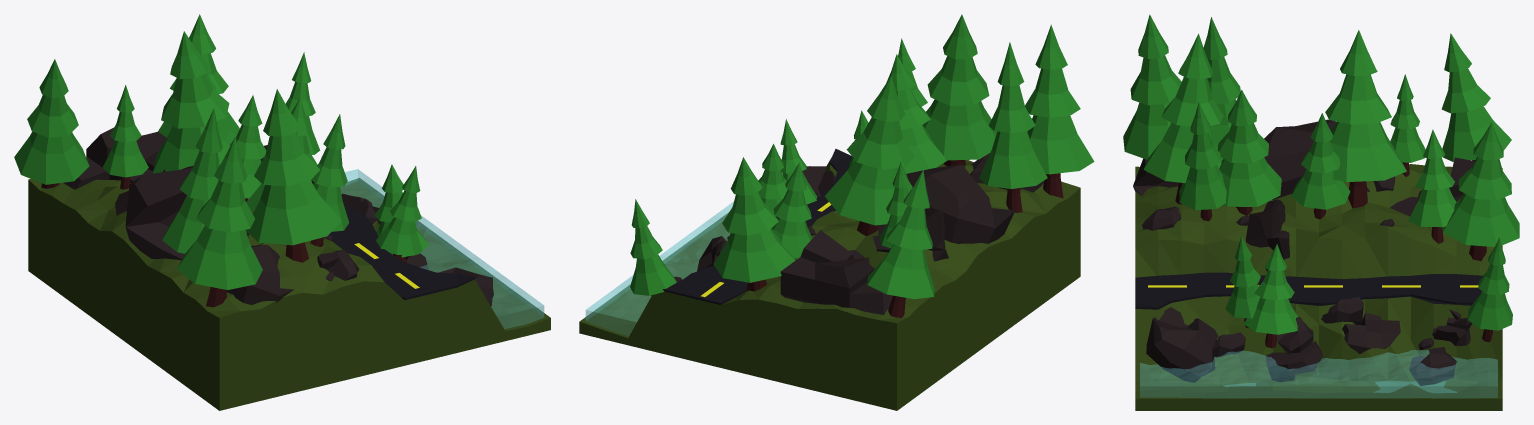
Rendered from dracoForestFinal.glb.
3 renders of one model, left to right at view 1: azimuth 30°, elevation 25°; view 2: azimuth 150°, elevation 25°; view 3: azimuth 270°, elevation 25°, orthographic. The views are drawn at different scales.
Visible parts, largest first — view 1: Terrain, Tree, Tree.010, Tree.002, Tree.005, Water, Rock.014, Road, Tree.011, Tree.003, Tree.009, Tree.012 (+10 smaller); view 2: Terrain, Tree.002, Tree, Tree.010, Rock.001, Tree.006, Tree.011, Tree.005, Rock.014, Water, Road, Tree.001 (+9 smaller); view 3: Terrain, Water, Road, Tree.002, Tree.006, Tree, Tree.001, Tree.010, Tree.005, Rock.004, Tree.009, Tree.008 (+19 smaller).
Boxes of the visible parts, x1,y1,x2,y2 form: Terrain: (28, 178, 550, 410); Tree: (246, 89, 341, 262); Tree.010: (177, 137, 262, 307); Tree.002: (152, 31, 236, 173); Tree.005: (14, 59, 89, 188); Water: (340, 169, 544, 328); Rock.014: (125, 166, 249, 260); Road: (260, 145, 474, 300); Tree.011: (162, 108, 222, 253); Tree.003: (102, 85, 148, 189); Tree.009: (310, 114, 349, 246); Tree.012: (376, 166, 422, 259); Terrain: (579, 157, 1080, 410); Tree.002: (824, 76, 914, 235); Tree: (923, 14, 997, 166); Tree.010: (1025, 24, 1094, 198); Rock.001: (780, 230, 892, 315); Tree.006: (714, 157, 795, 291); Tree.011: (979, 42, 1047, 212); Tree.005: (867, 170, 934, 317); Rock.014: (906, 164, 1015, 243); Water: (585, 201, 733, 335); Road: (663, 149, 852, 305); Tree.001: (886, 54, 947, 173); Terrain: (1135, 164, 1502, 410); Water: (1140, 350, 1497, 397); Road: (1135, 272, 1482, 309); Tree.002: (1325, 30, 1406, 208); Tree.006: (1442, 122, 1519, 261); Tree: (1143, 33, 1223, 204); Tree.001: (1217, 90, 1281, 215); Tree.010: (1123, 14, 1181, 159); Tree.005: (1441, 33, 1511, 161); Rock.004: (1146, 307, 1218, 382); Tree.009: (1179, 101, 1226, 221); Tree.008: (1291, 113, 1350, 219).
Size of the model in its own units: 8.55 by 6.38 by 8.64.
